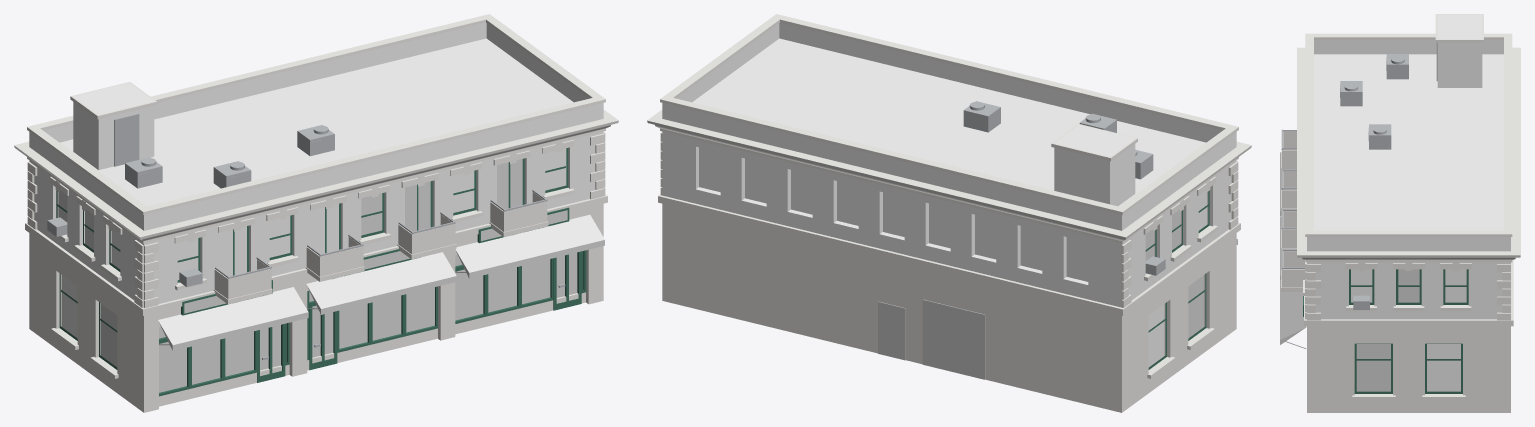
File: midtown_w74f1s.glb
3 views of the same model, side by side, from view 1: azimuth 30°, elevation 25°; view 2: azimuth 150°, elevation 25°; view 3: azimuth 270°, elevation 25° (orthographic). The views are drawn at different scales.
Visible parts, largest first — view 1: midtown_w74f1s_Trim, midtown_w74f1s_Walls, midtown_w74f1s_Roof, midtown_w74f1s_WindowsLit, midtown_w74f1s_Awning, midtown_w74f1s_Frames, midtown_w74f1s_Glass, midtown_w74f1s_Details, midtown_w74f1s_Sign; view 2: midtown_w74f1s_Trim, midtown_w74f1s_Walls, midtown_w74f1s_Roof, midtown_w74f1s_Glass, midtown_w74f1s_Doors, midtown_w74f1s_Details, midtown_w74f1s_WindowsLit, midtown_w74f1s_Frames; view 3: midtown_w74f1s_Trim, midtown_w74f1s_Roof, midtown_w74f1s_Walls, midtown_w74f1s_Glass, midtown_w74f1s_Details, midtown_w74f1s_WindowsLit, midtown_w74f1s_Frames, midtown_w74f1s_Awning.
Part boxes in pixels (box(x1,y1,x2,y2)): midtown_w74f1s_Trim: box(14, 14, 618, 412); midtown_w74f1s_Walls: box(29, 22, 603, 303); midtown_w74f1s_Roof: box(60, 38, 573, 206); midtown_w74f1s_WindowsLit: box(58, 159, 577, 392); midtown_w74f1s_Awning: box(158, 214, 604, 350); midtown_w74f1s_Frames: box(56, 148, 586, 396); midtown_w74f1s_Glass: box(61, 148, 566, 338); midtown_w74f1s_Details: box(47, 113, 565, 360); midtown_w74f1s_Sign: box(184, 210, 567, 313); midtown_w74f1s_Trim: box(647, 14, 1251, 412); midtown_w74f1s_Walls: box(662, 22, 1236, 307); midtown_w74f1s_Roof: box(692, 38, 1205, 206); midtown_w74f1s_Glass: box(699, 147, 1207, 367); midtown_w74f1s_Doors: box(878, 299, 985, 379); midtown_w74f1s_Details: box(963, 101, 1165, 275); midtown_w74f1s_WindowsLit: box(1145, 209, 1204, 338); midtown_w74f1s_Frames: box(1145, 190, 1209, 369); midtown_w74f1s_Trim: box(1281, 14, 1520, 412); midtown_w74f1s_Roof: box(1314, 14, 1503, 230); midtown_w74f1s_Walls: box(1307, 40, 1510, 319); midtown_w74f1s_Glass: box(1351, 269, 1466, 391); midtown_w74f1s_Details: box(1281, 42, 1437, 348); midtown_w74f1s_WindowsLit: box(1356, 269, 1419, 391); midtown_w74f1s_Frames: box(1303, 269, 1468, 393); midtown_w74f1s_Awning: box(1280, 152, 1306, 344).
Bounding box in the file's own units: 77.12 × 36.54 × 37.76.
